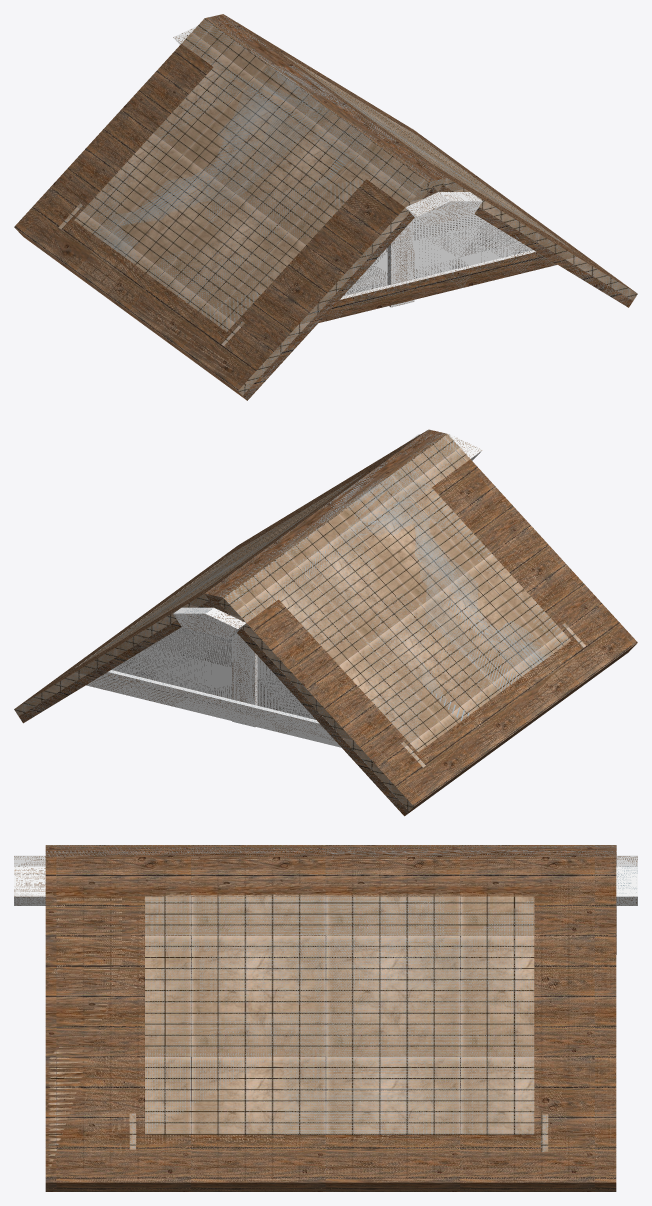
File: strecha_vrsek.fbx
3 views of the same model, one above another, from view 1: azimuth 30°, elevation 25°; view 2: azimuth 150°, elevation 25°; view 3: azimuth 270°, elevation 25° (orthographic). The views are drawn at different scales.
Parts seen in each view (by area): view 1: Model; view 2: Model; view 3: Model.
Part boxes in pixels (x1=…): Model: x1=14, y1=14, x2=637, y2=400; Model: x1=14, y1=429, x2=637, y2=816; Model: x1=14, y1=845, x2=637, y2=1191.
Size of the model in its own units: 44.17 by 18.42 by 46.83.
